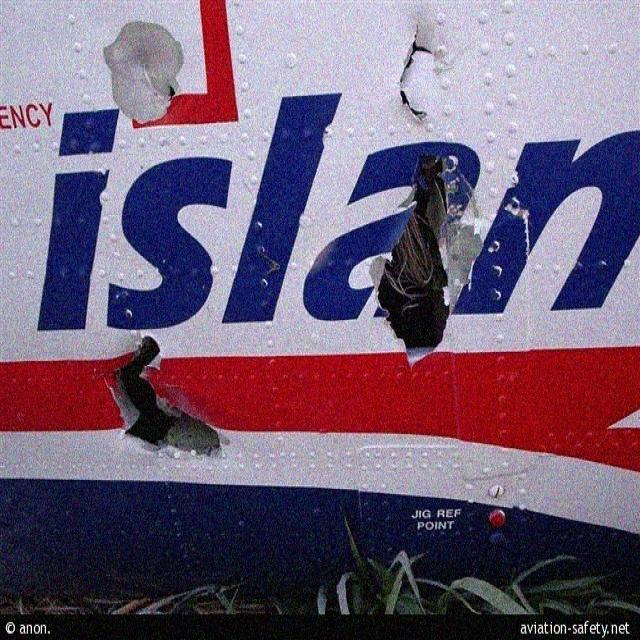crack: (371, 149, 488, 380), (109, 334, 230, 461), (395, 19, 453, 129), (138, 60, 181, 108)
